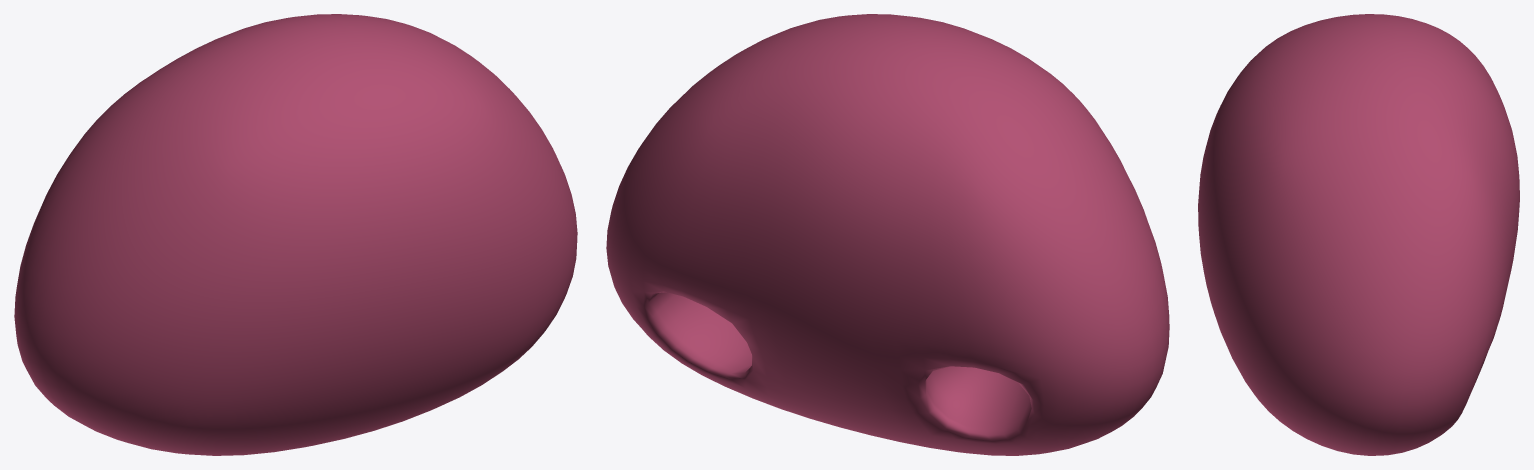
The model's file is bat_nose.obj.
The picture shows the model from 3 angles, left to right: view 1: azimuth 30°, elevation 25°; view 2: azimuth 150°, elevation 25°; view 3: azimuth 270°, elevation 25°; orthographic projection. The views are drawn at different scales.
Visible parts, largest first — view 1: 鼻; view 2: 鼻; view 3: 鼻.
Boxes of the visible parts, x1,y1,x2,y2 form: 鼻: (14, 14, 577, 455); 鼻: (606, 14, 1169, 455); 鼻: (1198, 14, 1519, 455).
Bounding box in the file's own units: 0.1679 × 0.1191 × 0.0951.
